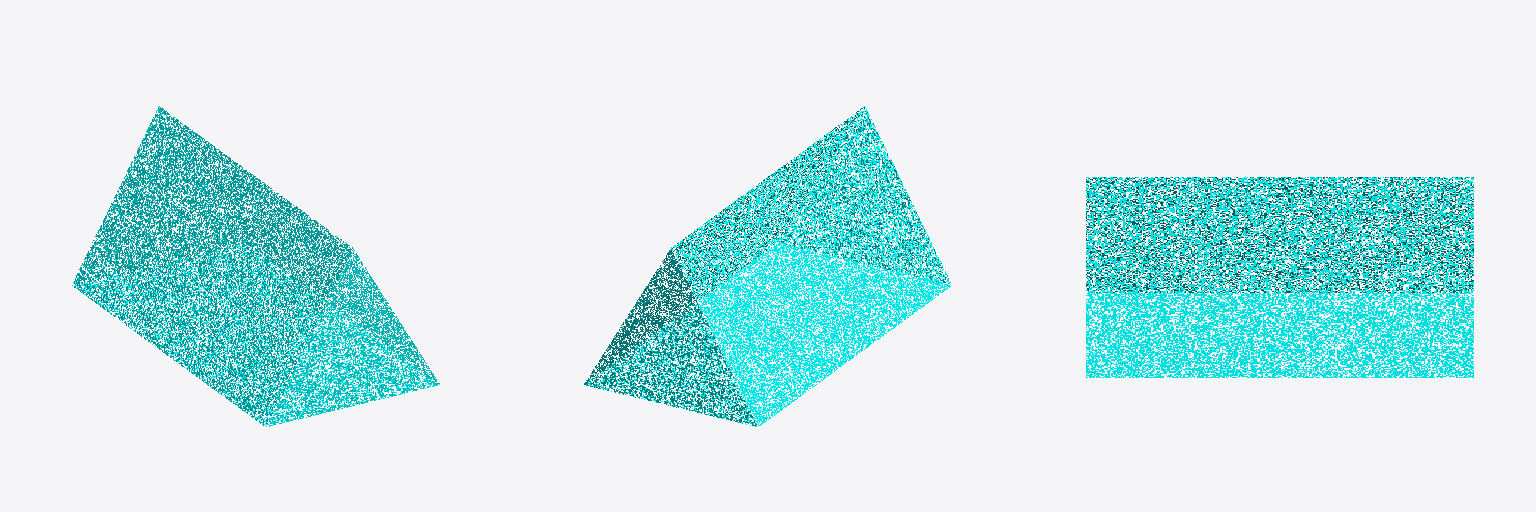
The picture shows the model from 3 angles: view 1: azimuth 30°, elevation 25°; view 2: azimuth 150°, elevation 25°; view 3: azimuth 270°, elevation 25°; orthographic projection.
Parts seen in each view (by area): view 1: FireUnlocked_Circle; view 2: FireUnlocked_Circle; view 3: FireUnlocked_Circle.
Boxes of the visible parts, x1,y1,x2,y2 form: FireUnlocked_Circle: [72, 106, 439, 426]; FireUnlocked_Circle: [584, 106, 950, 426]; FireUnlocked_Circle: [1086, 177, 1473, 377].
Bounding box in the file's own units: 0.2078 × 0.18 × 0.4.
Materials: 1 (1 with a texture image).